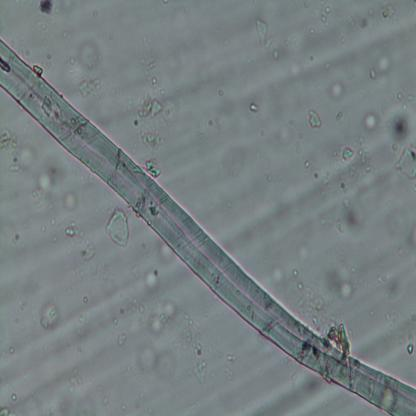Anthropogenic: (0, 41, 416, 413)
Background material: (19, 144, 77, 223), (278, 26, 330, 88), (136, 54, 161, 181), (187, 71, 235, 137), (286, 242, 326, 316), (103, 288, 150, 336), (331, 192, 367, 245), (308, 300, 352, 341), (321, 253, 354, 305), (64, 33, 95, 87), (147, 296, 187, 336), (276, 375, 321, 408), (139, 342, 174, 380), (368, 260, 401, 300), (354, 6, 394, 35), (104, 208, 130, 247), (357, 132, 377, 180), (0, 132, 25, 168), (386, 113, 412, 144), (189, 348, 212, 383), (253, 18, 274, 50), (366, 54, 390, 81), (326, 70, 344, 104), (40, 302, 61, 330), (220, 351, 240, 378), (400, 148, 416, 180), (362, 108, 380, 135), (79, 75, 102, 96), (157, 241, 173, 270), (260, 265, 284, 284), (403, 222, 416, 254), (396, 89, 414, 112), (146, 269, 161, 296), (73, 328, 94, 346), (307, 108, 324, 130), (317, 1, 332, 25), (80, 241, 96, 263), (61, 221, 80, 239), (40, 1, 56, 15), (323, 171, 335, 189), (116, 330, 128, 348), (248, 100, 261, 114), (405, 339, 415, 357), (342, 148, 353, 162), (0, 404, 11, 416), (3, 346, 14, 357), (303, 158, 311, 169), (10, 394, 18, 401)
